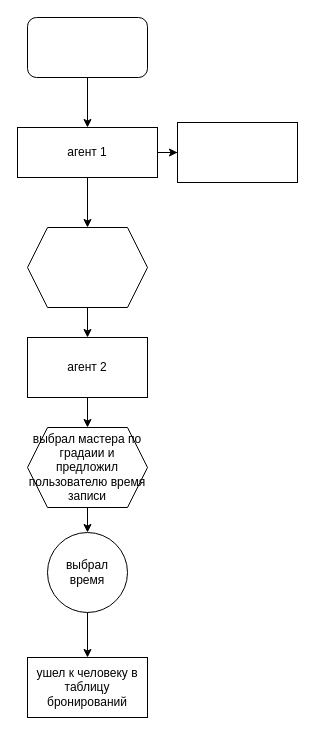
The diagram is 315 pixels wide and 735 high, and some of its shapes have lost their labels. Each missing label, with the centre of its shape:
килл кнопка: [237,152]
определил градацию: [87,267]
форма: [87,47]
